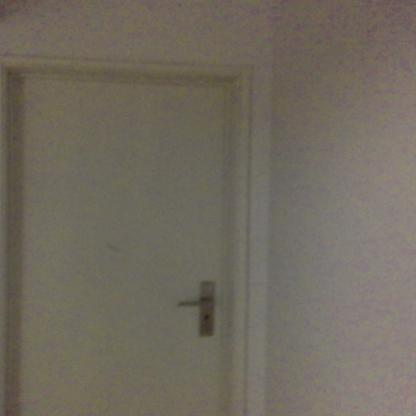door: (6, 75, 235, 415)
lever: (176, 297, 214, 311)
